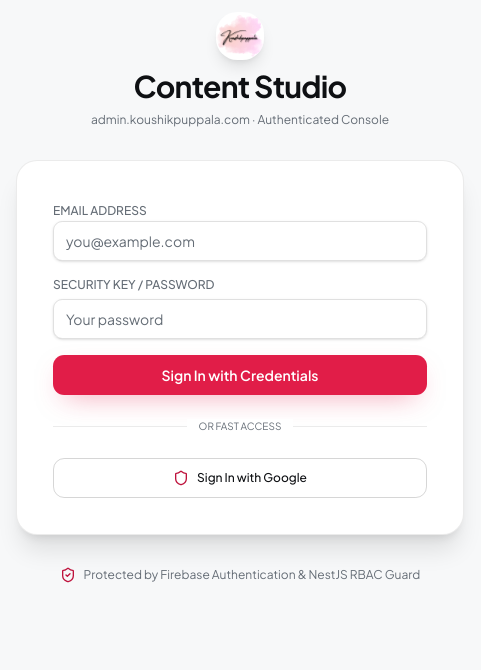
Scenario: LoginView › announces a Google sign in failure
Click the button "Sign In with Google" at (240, 478), box top-left (53, 458), bottom-right (427, 498)
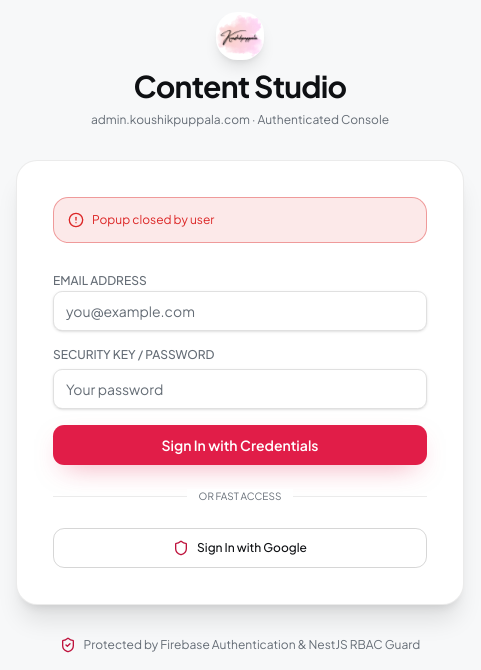
Now the message reads "Popup closed by user", box top-left (92, 212), bottom-right (214, 227)
